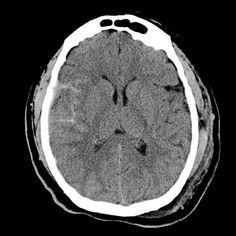Normal_Brain: (4, 2, 236, 236)
